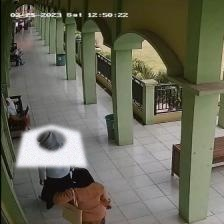Mukena: (16, 124, 86, 167)
